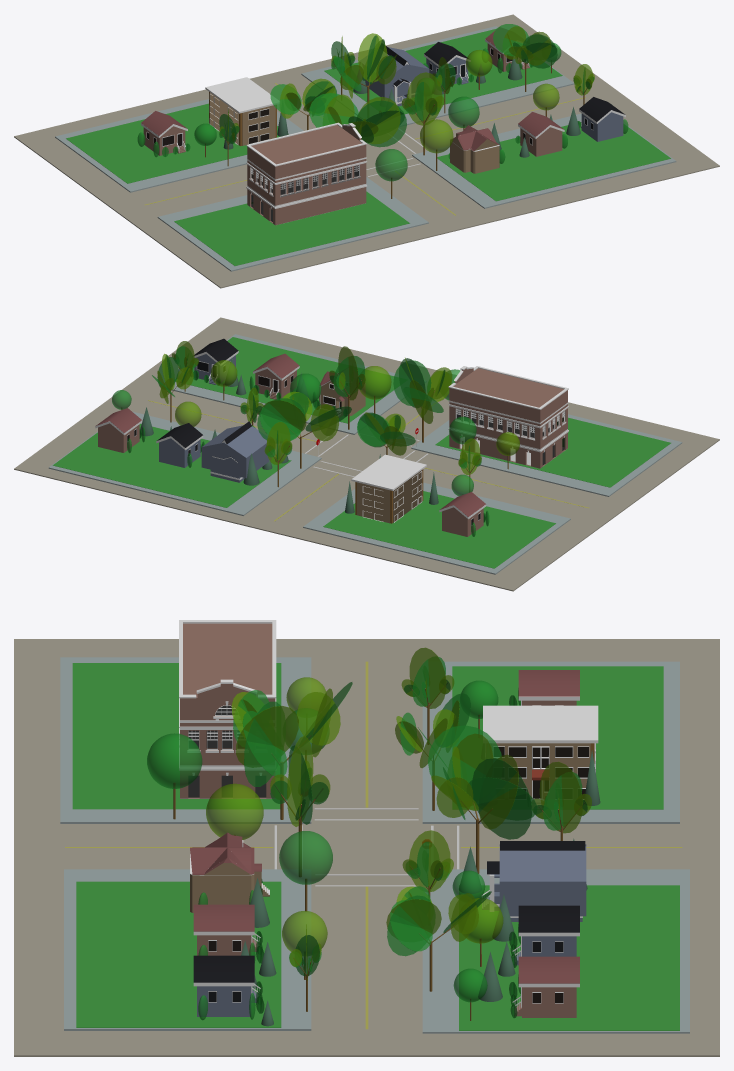
3 views of the same model, one above another, from view 1: azimuth 30°, elevation 25°; view 2: azimuth 150°, elevation 25°; view 3: azimuth 270°, elevation 25° (orthographic). The views are drawn at different scales.
Visible parts, largest first — view 1: pCubeShape364, pCubeShape75, pCubeShape74, pCubeShape172, pasted__pCube42Shape, pCubeShape227, pasted__pCubeShape28, pasted__pCubeShape2, pasted__pCubeShape29, pasted__pCubeShape27, pasted__pCubeShape33, pasted__pCubeShape5 (+32 smaller); view 2: pCubeShape364, pCubeShape172, pCubeShape227, pCubeShape75, pCubeShape74, pasted__pCube42Shape, pasted__pCubeShape27, pasted__pCubeShape28, pasted__pCubeShape2, pCubeShape232, pasted__pCubeShape33, pasted__pCubeShape29 (+40 smaller); view 3: pCubeShape364, pCubeShape74, pCubeShape227, pCubeShape75, pCubeShape172, pasted__pCubeShape2, pasted__pCubeShape29, pasted__pCubeShape27, pasted__pCubeShape28, pasted__pCube42Shape, pCubeShape232, pCubeShape366 (+53 smaller).
Boxes of the visible parts, <box> form: pCubeShape364: <box>14,14,719,288</box>; pCubeShape75: <box>174,191,409,265</box>; pCubeShape74: <box>437,122,670,201</box>; pCubeShape172: <box>66,103,288,183</box>; pasted__pCube42Shape: <box>247,125,366,182</box>; pCubeShape227: <box>324,28,562,114</box>; pasted__pCubeShape28: <box>157,171,428,271</box>; pasted__pCubeShape2: <box>301,26,574,126</box>; pasted__pCubeShape29: <box>412,113,676,208</box>; pasted__pCubeShape27: <box>55,99,303,192</box>; pasted__pCubeShape33: <box>247,163,366,205</box>; pasted__pCubeShape5: <box>247,187,366,225</box>; pCubeShape364: <box>14,317,719,591</box>; pCubeShape172: <box>323,491,555,568</box>; pCubeShape227: <box>53,423,291,507</box>; pCubeShape75: <box>435,417,670,487</box>; pCubeShape74: <box>175,337,399,423</box>; pasted__pCube42Shape: <box>449,368,567,426</box>; pasted__pCubeShape27: <box>303,482,570,574</box>; pasted__pCubeShape28: <box>411,412,682,496</box>; pasted__pCubeShape2: <box>48,411,321,515</box>; pCubeShape232: <box>201,425,271,478</box>; pasted__pCubeShape33: <box>449,406,567,448</box>; pasted__pCubeShape29: <box>171,334,426,434</box>; pCubeShape364: <box>14,639,719,1056</box>; pCubeShape74: <box>76,881,281,1027</box>; pCubeShape227: <box>459,885,679,1030</box>; pCubeShape75: <box>72,663,281,809</box>; pCubeShape172: <box>452,666,663,809</box>; pasted__pCubeShape2: <box>422,869,689,1033</box>; pasted__pCubeShape29: <box>64,869,311,1030</box>; pasted__pCubeShape27: <box>422,661,679,823</box>; pasted__pCubeShape28: <box>60,657,311,823</box>; pasted__pCube42Shape: <box>180,623,275,726</box>; pCubeShape232: <box>499,844,586,916</box>; pCubeShape366: <box>483,705,598,743</box>.
Size of the model in its own units: 26.47 by 4.27 by 18.98.
Materials: 21 (2 with a texture image).
